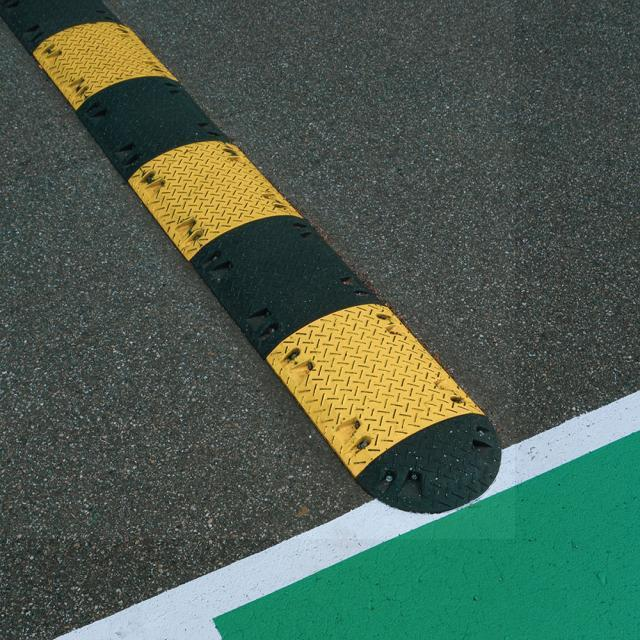Marked Bump: (20, 12, 510, 490)
